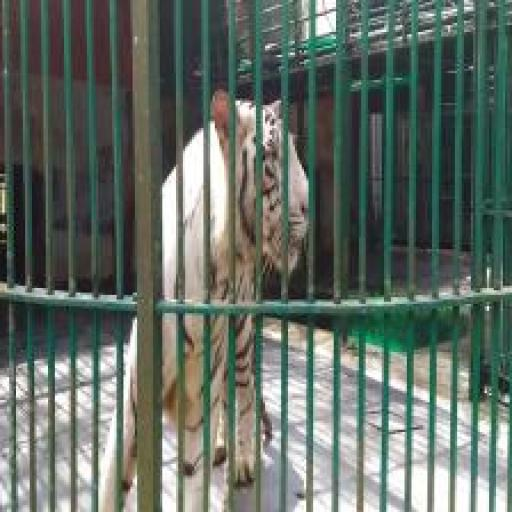Tiger: (98, 87, 320, 512)
